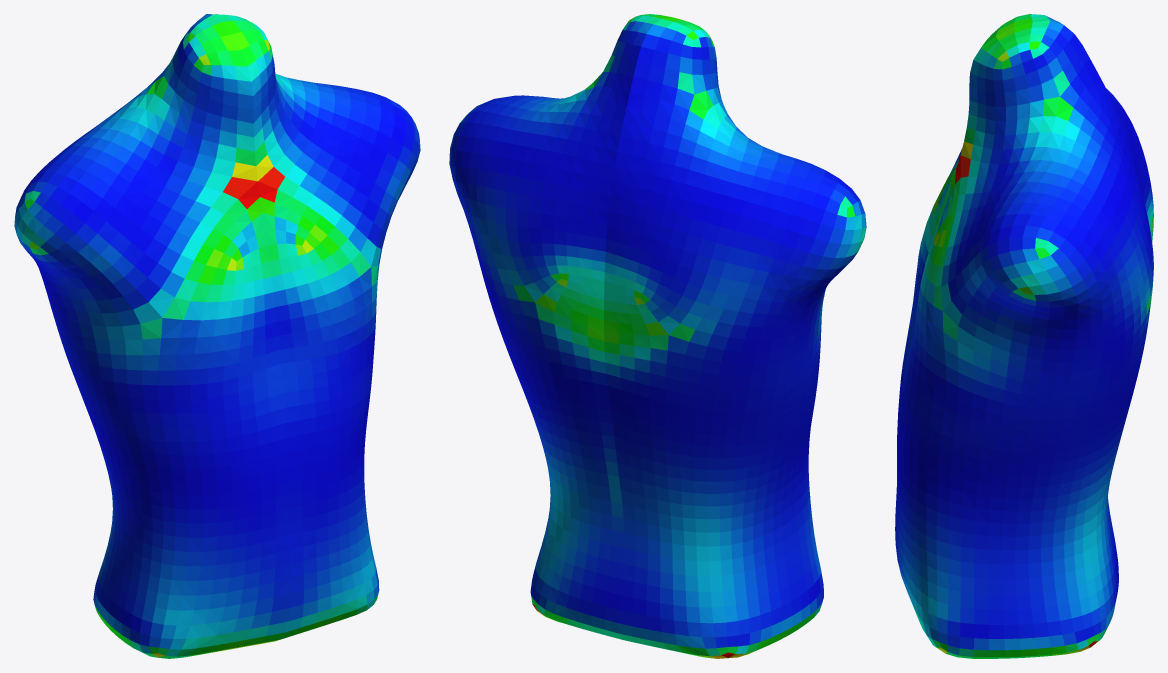
File: mannequinquad_Refined2_no_opt_quality.obj
3 views of the same model, side by side, from view 1: azimuth 30°, elevation 25°; view 2: azimuth 150°, elevation 25°; view 3: azimuth 270°, elevation 25° (orthographic). The views are drawn at different scales.
Size of the model in its own units: 5.27 by 7.56 by 3.01.
